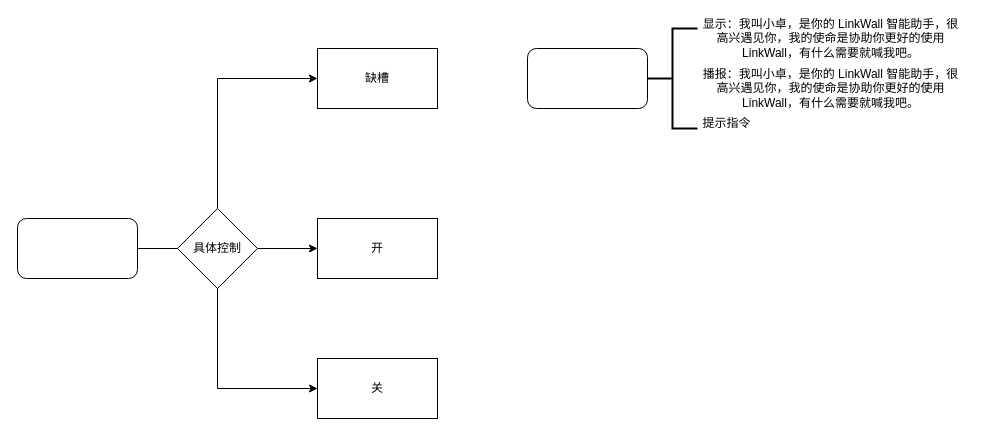
This 982x436 diagram has some shape labels left out. Here are the shapes that lost their labels. From the top down, the centre of each, then its label:
(587,78): Actions
(77,248): 灯光控制
